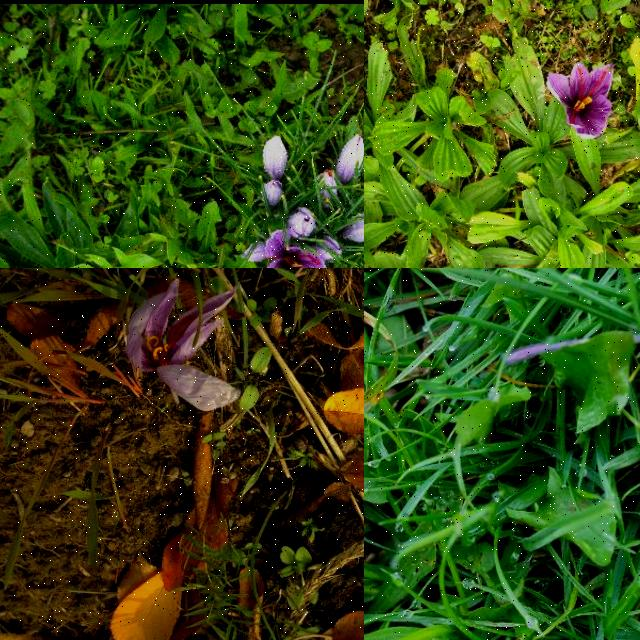flower: (126, 278, 238, 412), (549, 63, 615, 139), (255, 229, 335, 268), (334, 135, 364, 184), (263, 136, 289, 180), (286, 206, 318, 240), (315, 169, 339, 205), (340, 211, 364, 244), (316, 236, 342, 262), (263, 180, 285, 210)
